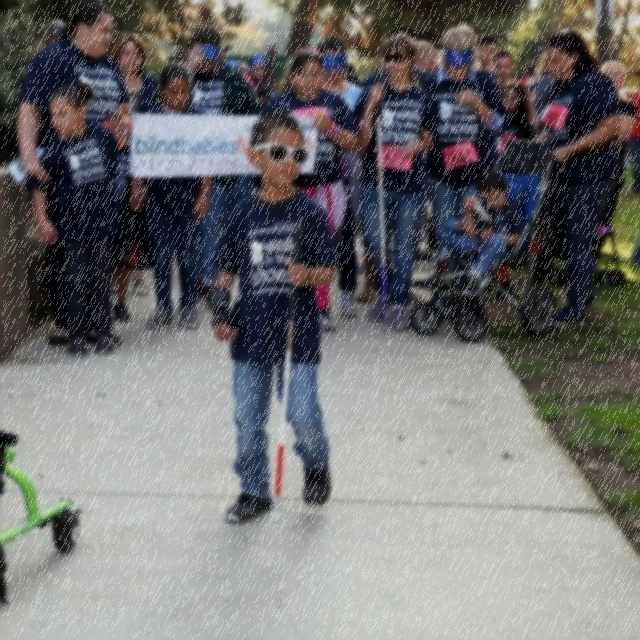pessoa: (197, 104, 346, 528), (13, 0, 132, 348), (17, 78, 135, 362), (256, 45, 362, 332), (346, 26, 442, 338), (528, 29, 625, 327), (174, 20, 262, 308), (126, 61, 216, 332), (410, 21, 510, 230), (108, 30, 163, 300), (428, 160, 533, 292), (109, 101, 148, 325), (474, 30, 534, 140), (316, 32, 366, 110), (599, 59, 639, 149), (619, 64, 638, 193), (244, 54, 274, 100), (532, 48, 553, 102), (413, 232, 439, 272), (413, 38, 443, 68), (386, 18, 417, 40), (354, 246, 372, 282), (42, 13, 59, 44), (342, 58, 360, 86), (280, 53, 294, 85)
